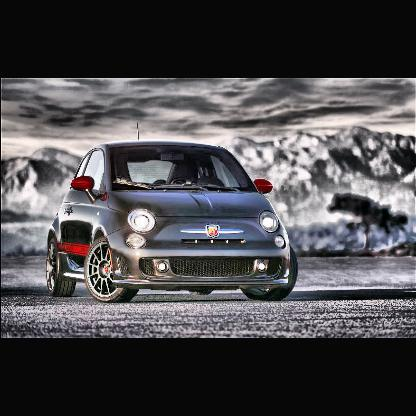FIAT 500 Abarth 2012: (45, 123, 301, 305)
